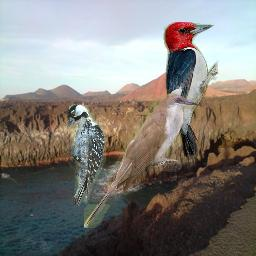Cuckoo: (84, 93, 200, 228)
Woodpecker: (161, 22, 223, 171), (67, 104, 106, 207)
